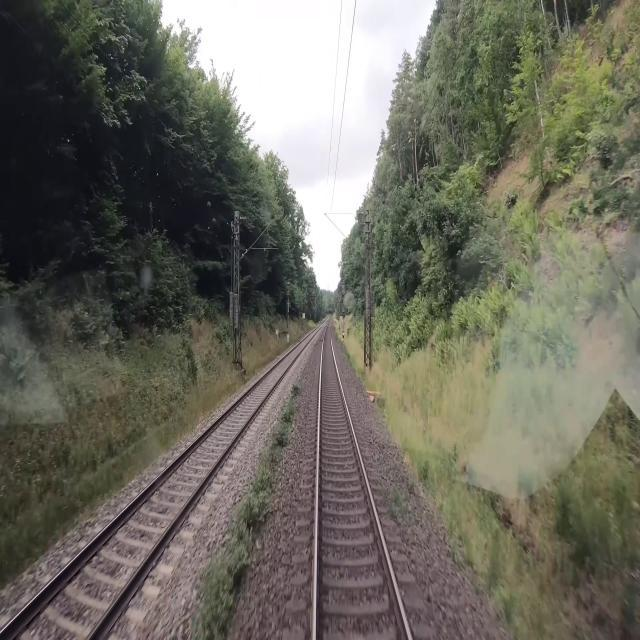Plant: (191, 382, 301, 639), (379, 481, 407, 519)
